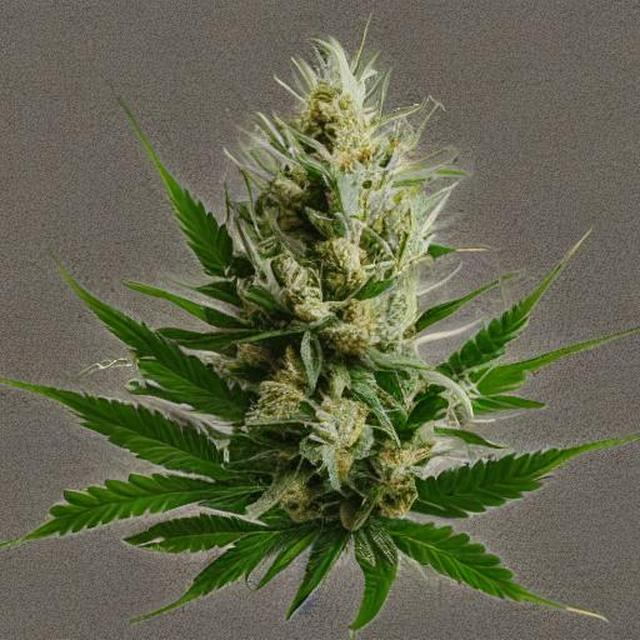Marijuana Joint: (4, 41, 630, 619)
